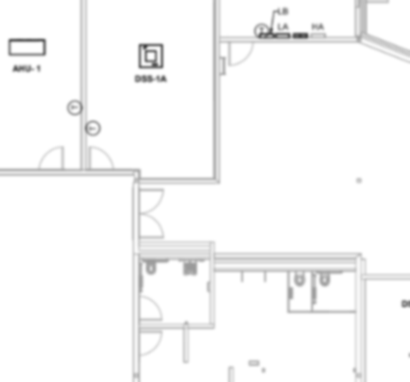door: (226, 40, 256, 67), (36, 145, 66, 170), (137, 294, 164, 321), (138, 329, 164, 357), (86, 145, 115, 170)
double door: (137, 187, 168, 239)
